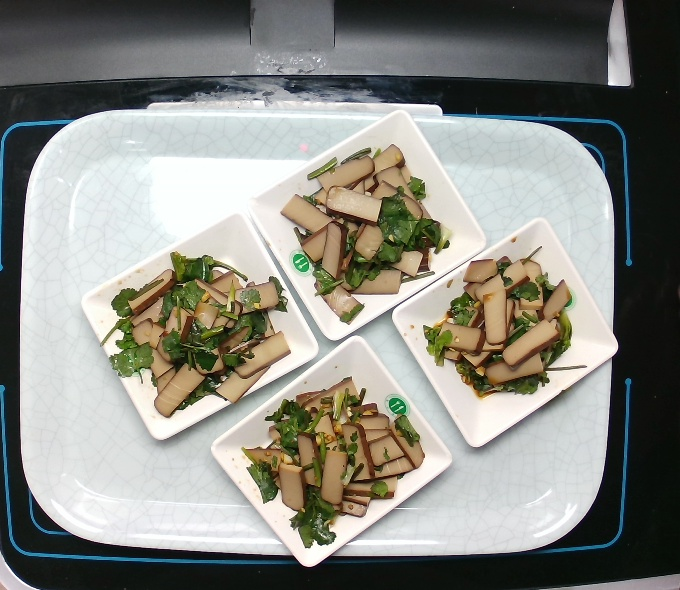wcq-JiDanGan: (96, 236, 297, 426), (240, 370, 428, 546), (282, 130, 453, 319), (419, 246, 586, 402)
